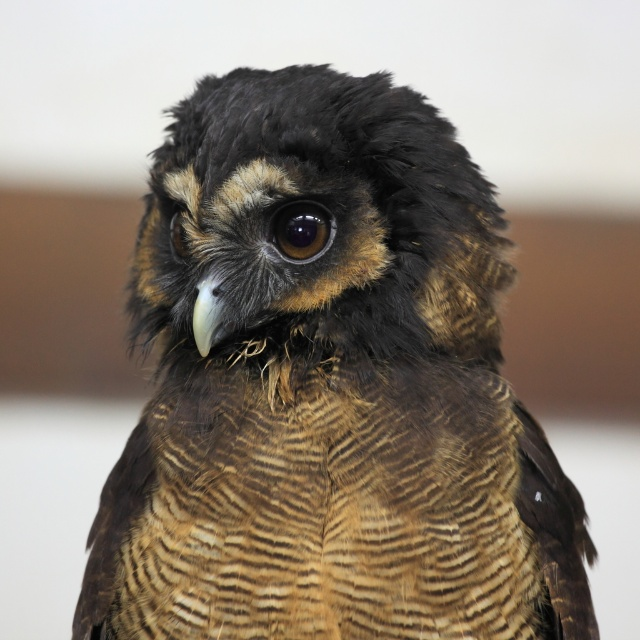Owl: (69, 65, 600, 640)
